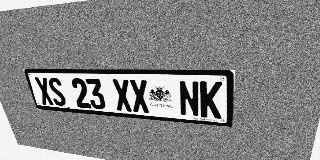2: (70, 78, 91, 108)
3: (85, 78, 106, 110)
K: (200, 81, 222, 119)
N: (178, 81, 200, 117)
S: (46, 77, 67, 106)
X: (111, 79, 133, 112), (129, 79, 150, 113), (34, 77, 55, 105)
